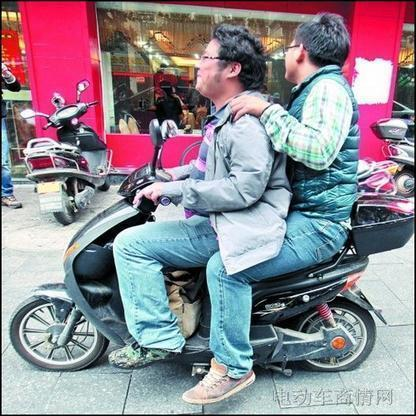target: (7, 15, 404, 373)
